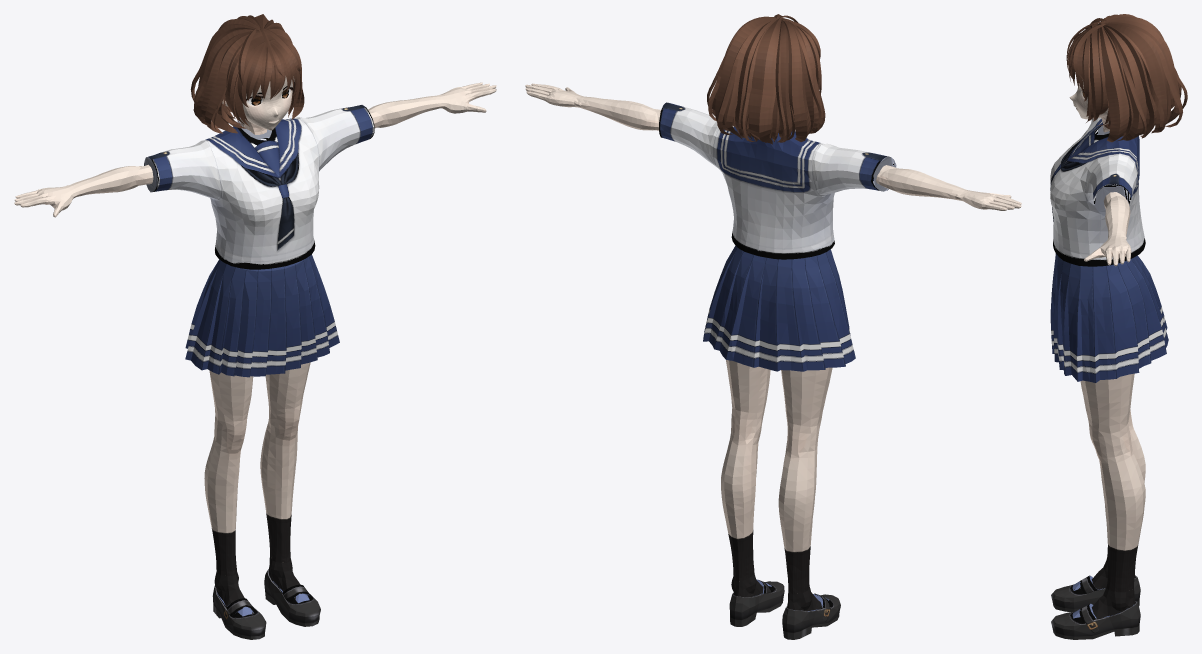
File: Bob Cut High School Girl (2).glb
3 views of the same model, side by side, from view 1: azimuth 30°, elevation 25°; view 2: azimuth 150°, elevation 25°; view 3: azimuth 270°, elevation 25° (orthographic). The views are drawn at different scales.
Bounding box in the file's own units: 1.39 × 1.62 × 0.337.
11 materials, 11 textured.
